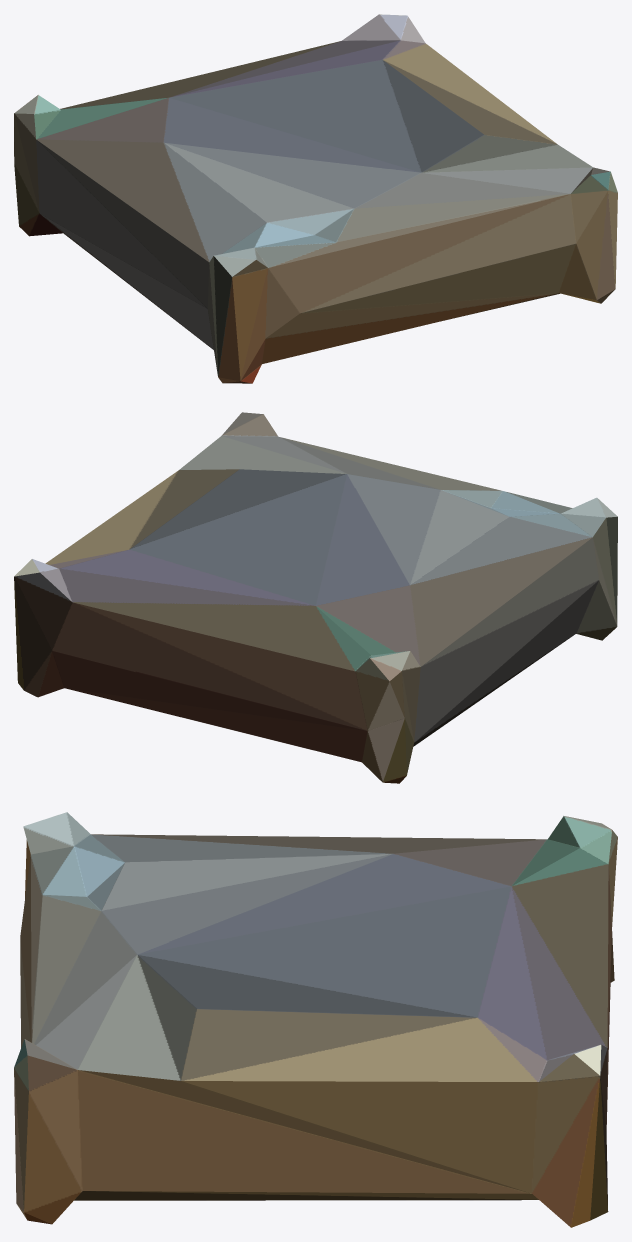
The model's file is sandbox.fbx.
3 renders of one model, top to bottom at view 1: azimuth 30°, elevation 25°; view 2: azimuth 150°, elevation 25°; view 3: azimuth 270°, elevation 25°, orthographic. The views are drawn at different scales.
Visible parts, largest first — view 1: Mesh_0; view 2: Mesh_0; view 3: Mesh_0.
Part boxes in pixels (x1,y1,x2,y2): Mesh_0: (14, 14, 617, 383); Mesh_0: (14, 412, 617, 783); Mesh_0: (14, 812, 617, 1227).
Bounding box in the file's own units: 119 × 42.62 × 119.
1 material, 1 textured.
